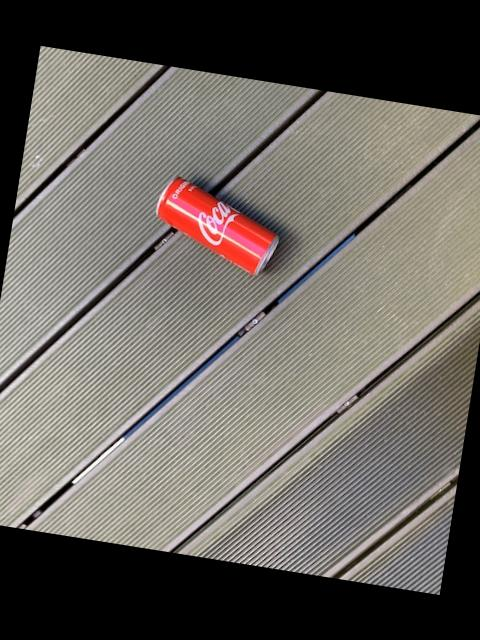metal: (157, 178, 276, 273)
